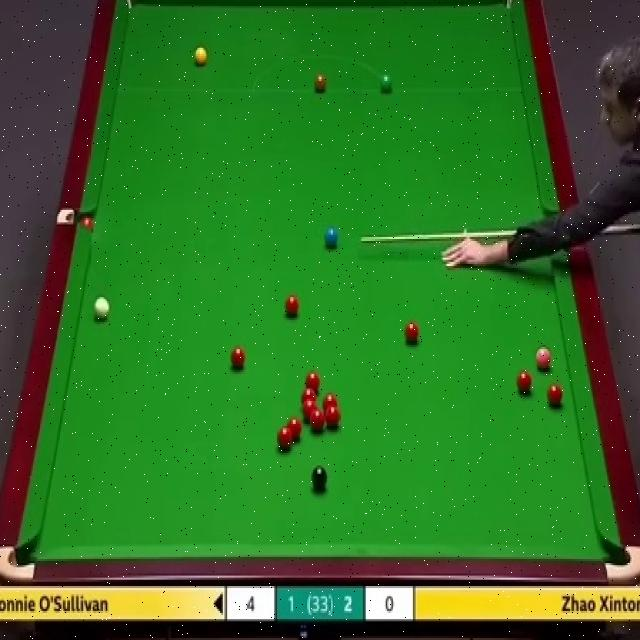black-ball: (311, 464, 328, 494)
blue-ball: (324, 225, 339, 248)
brown-ball: (313, 73, 327, 94)
green-ball: (380, 75, 392, 92)
pink-ball: (536, 345, 552, 372)
red-ball: (229, 345, 247, 373), (517, 370, 535, 395), (276, 427, 293, 452), (287, 419, 304, 444), (546, 384, 564, 407), (324, 406, 340, 430), (405, 320, 420, 345), (284, 295, 300, 318), (82, 212, 96, 236), (310, 408, 324, 432), (302, 401, 317, 420), (304, 372, 321, 388), (301, 386, 316, 404), (323, 396, 337, 409)
white-ball: (92, 296, 110, 321)
yellow-ball: (194, 47, 208, 68)
